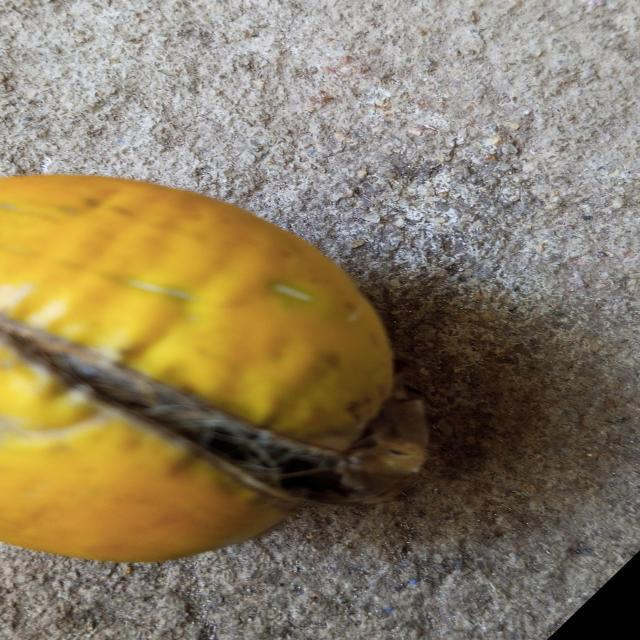damaged: (0, 175, 428, 561)
